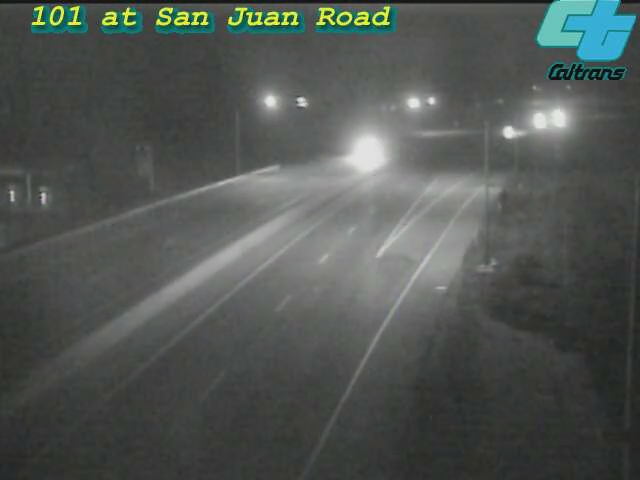vehicle: (343, 126, 393, 176), (484, 108, 534, 158), (510, 95, 560, 145), (534, 94, 584, 144)
